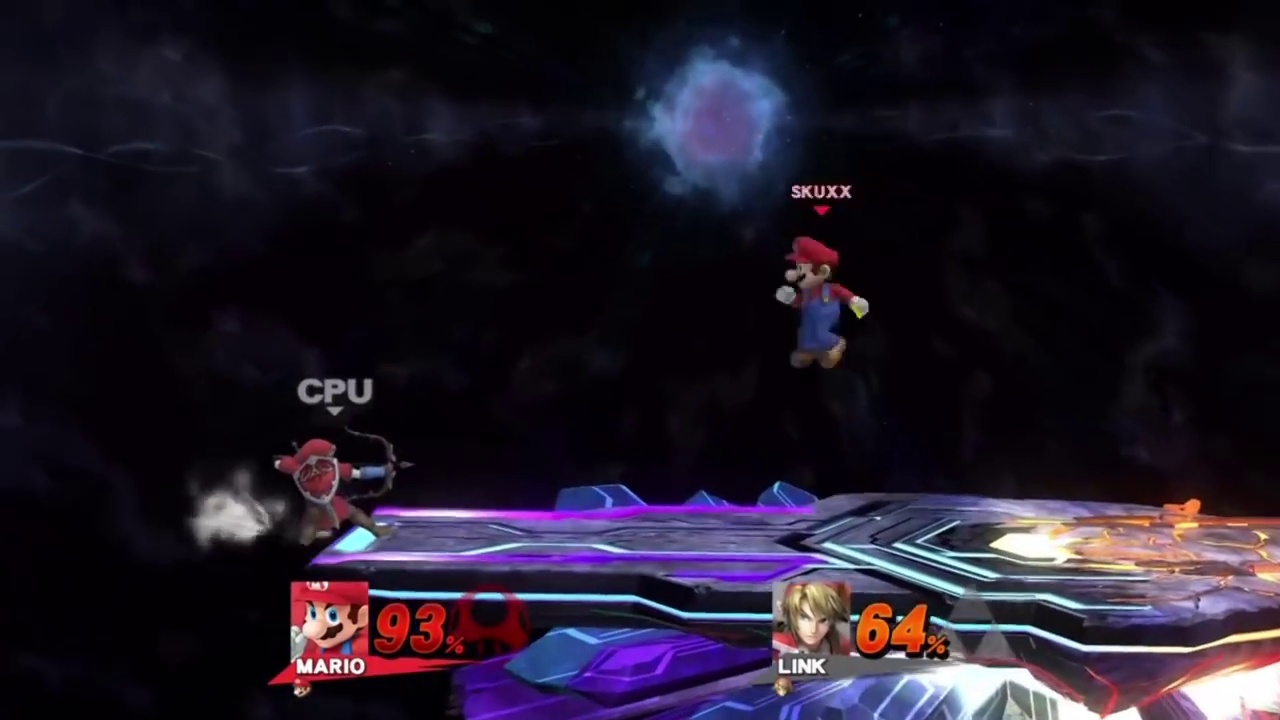Mario: (771, 236, 869, 374)
